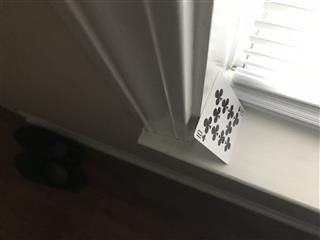TenOfClubs: (192, 69, 246, 166)
